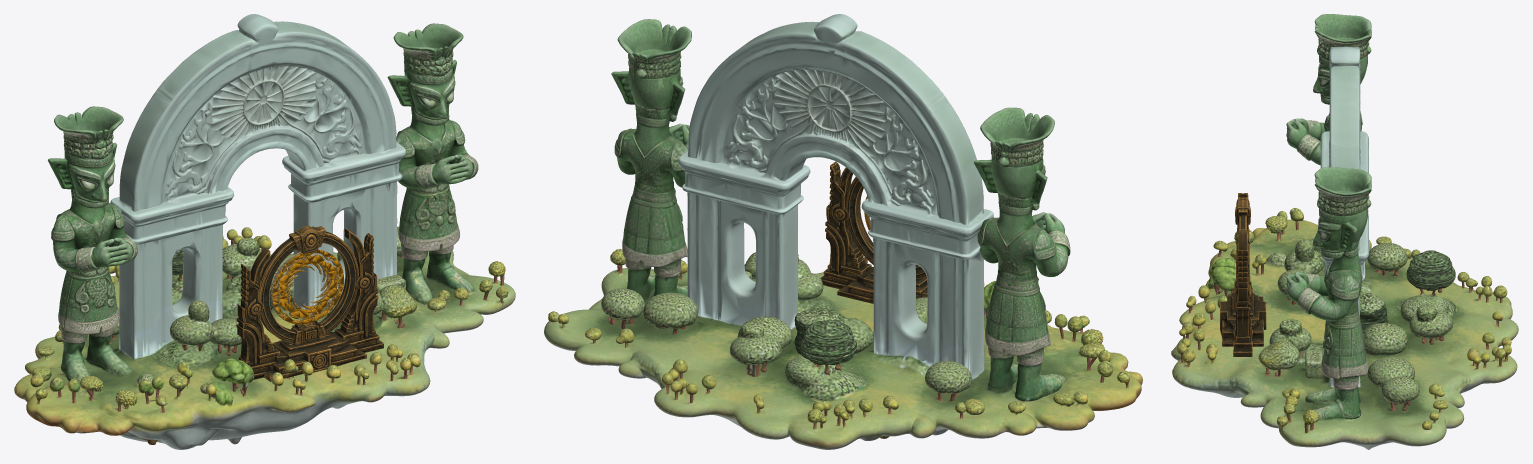
The model's file is 15-civilization-gate.glb.
The picture shows the model from 3 angles, left to right: view 1: azimuth 30°, elevation 25°; view 2: azimuth 150°, elevation 25°; view 3: azimuth 270°, elevation 25°; orthographic projection. The views are drawn at different scales.
Visible parts, largest first — view 1: tripo_node_bbcc85b6-3ad8-422b-b677-e2766067ee58, Meshy_AI_Aureate_Vortex_Gate_0817200025_texture, Meshy_AI_Golden_Vortex_Emblem_0817192120_texture; view 2: tripo_node_bbcc85b6-3ad8-422b-b677-e2766067ee58, Meshy_AI_Aureate_Vortex_Gate_0817200025_texture; view 3: tripo_node_bbcc85b6-3ad8-422b-b677-e2766067ee58, Meshy_AI_Aureate_Vortex_Gate_0817200025_texture.
Part boxes in pixels (x1,y1,x2,y2): tripo_node_bbcc85b6-3ad8-422b-b677-e2766067ee58: (14,14,515,449); Meshy_AI_Aureate_Vortex_Gate_0817200025_texture: (236,226,383,381); Meshy_AI_Golden_Vortex_Emblem_0817192120_texture: (270,249,344,324); tripo_node_bbcc85b6-3ad8-422b-b677-e2766067ee58: (544,14,1142,449); Meshy_AI_Aureate_Vortex_Gate_0817200025_texture: (820,161,927,303); tripo_node_bbcc85b6-3ad8-422b-b677-e2766067ee58: (1171,14,1518,449); Meshy_AI_Aureate_Vortex_Gate_0817200025_texture: (1220,193,1266,356).
Size of the model in its own units: 6.5 by 4.94 by 4.33.
3 materials, 3 textured.
